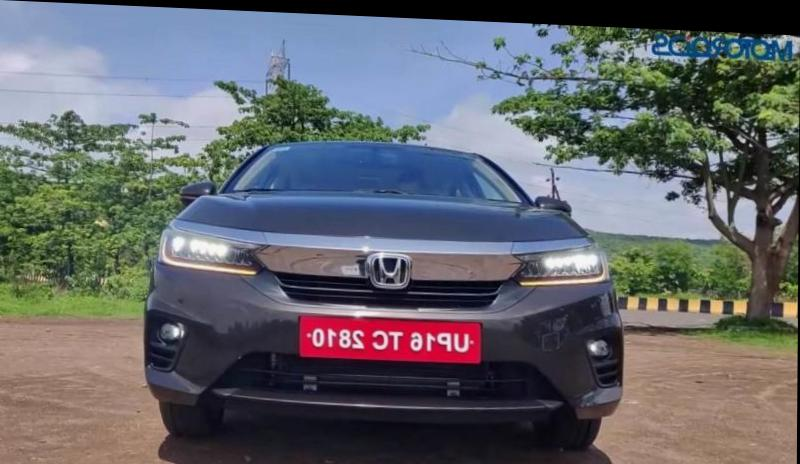License_Plate: (296, 310, 488, 373)
